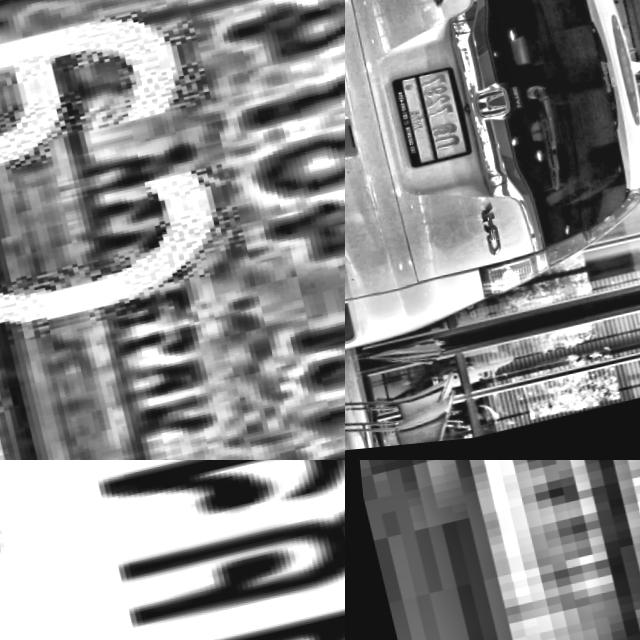license-plate: (0, 0, 345, 460), (0, 460, 345, 640), (345, 460, 640, 640), (381, 70, 470, 176)
